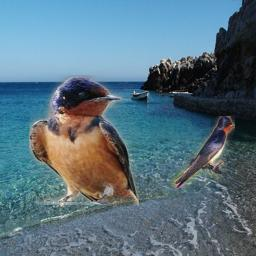Swallow: (29, 75, 139, 205), (169, 116, 235, 188)
